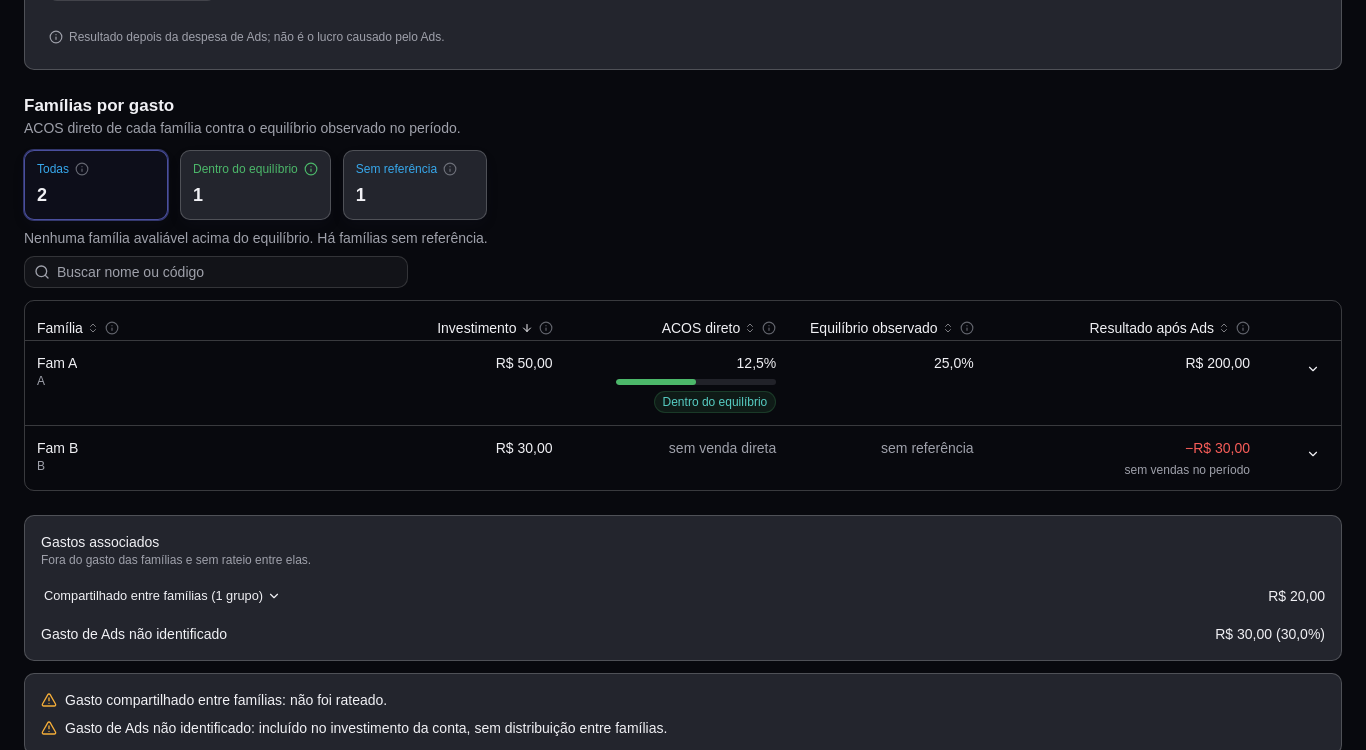
Test: Ads › expande métricas secundárias e preserva o link do nome
(page scrolled)
Click the button named "Ver detalhes de Fam A" at coordinates (1313, 369), box [1297,353,1329,385]
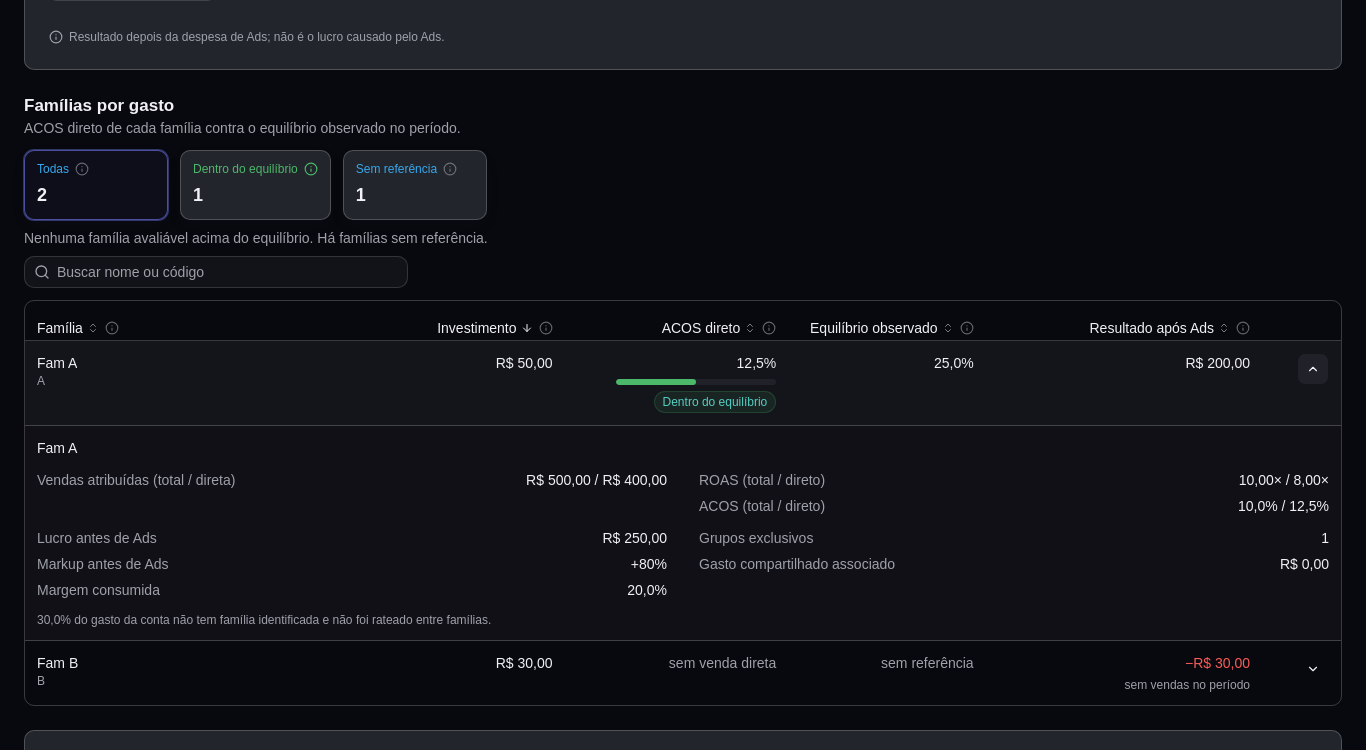
Expected: the button named "Ver detalhes de Fam A" is expanded, [1297,353,1329,385]
Expected: the text "ROAS (total / direto)" is shown, [699,470,825,490]
Expected: the text "Vendas atribuídas (total / direta)" is shown, [37,470,236,490]
